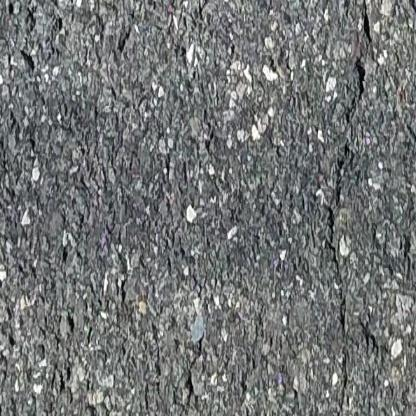Cracks: (324, 202, 352, 416), (357, 0, 377, 49), (353, 58, 371, 108)
